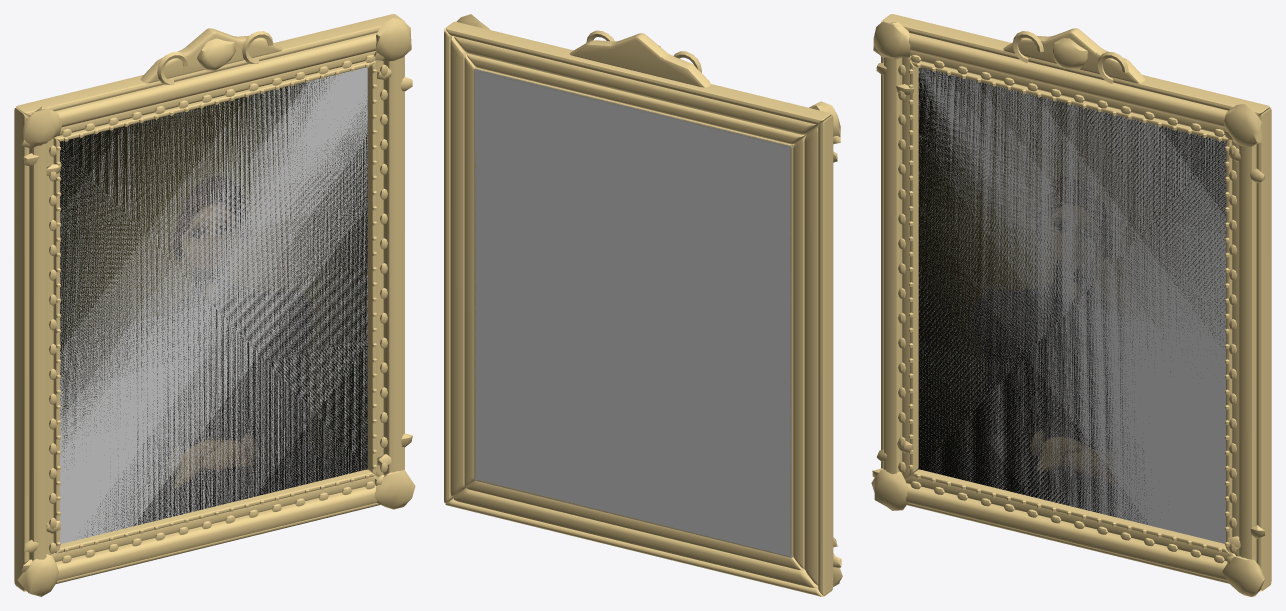
The model's file is SM_Painting_Lore.fbx.
3 renders of one model, left to right at view 1: azimuth 30°, elevation 25°; view 2: azimuth 150°, elevation 25°; view 3: azimuth 330°, elevation 25°, orthographic.
Parts seen in each view (by area): view 1: SM_Painting_Lore; view 2: SM_Painting_Lore; view 3: SM_Painting_Lore.
Boxes of the visible parts, x1=… form: SM_Painting_Lore: x1=14, y1=14, x2=415, y2=596; SM_Painting_Lore: x1=444, y1=14, x2=842, y2=596; SM_Painting_Lore: x1=871, y1=14, x2=1271, y2=596.
Bounding box in the file's own units: 93.09 × 117 × 7.48.
